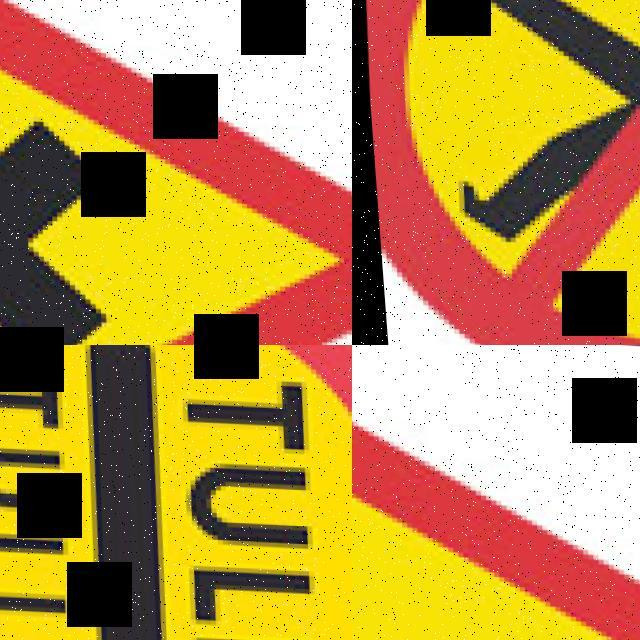117: (0, 345, 352, 640)
141: (352, 345, 640, 640)
31: (352, 0, 640, 345)
Crossroad intersection: (0, 0, 352, 345)
Passing without stopping prohibited: (0, 345, 352, 640)
